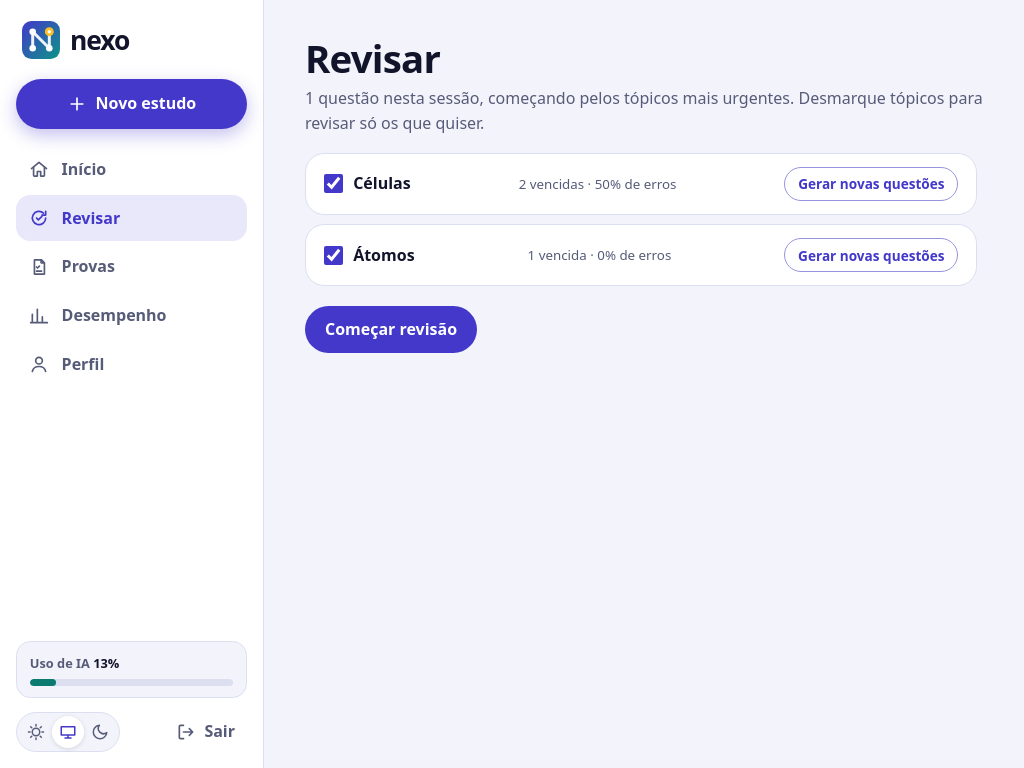
it: revisão: dá para escolher os tópicos; com todos marcados usa as questões já carregadas, com escolha pede só as dos marcados
Step 1. Click the checkbox labelled "Células" → (333, 184), box [324,174,343,194]
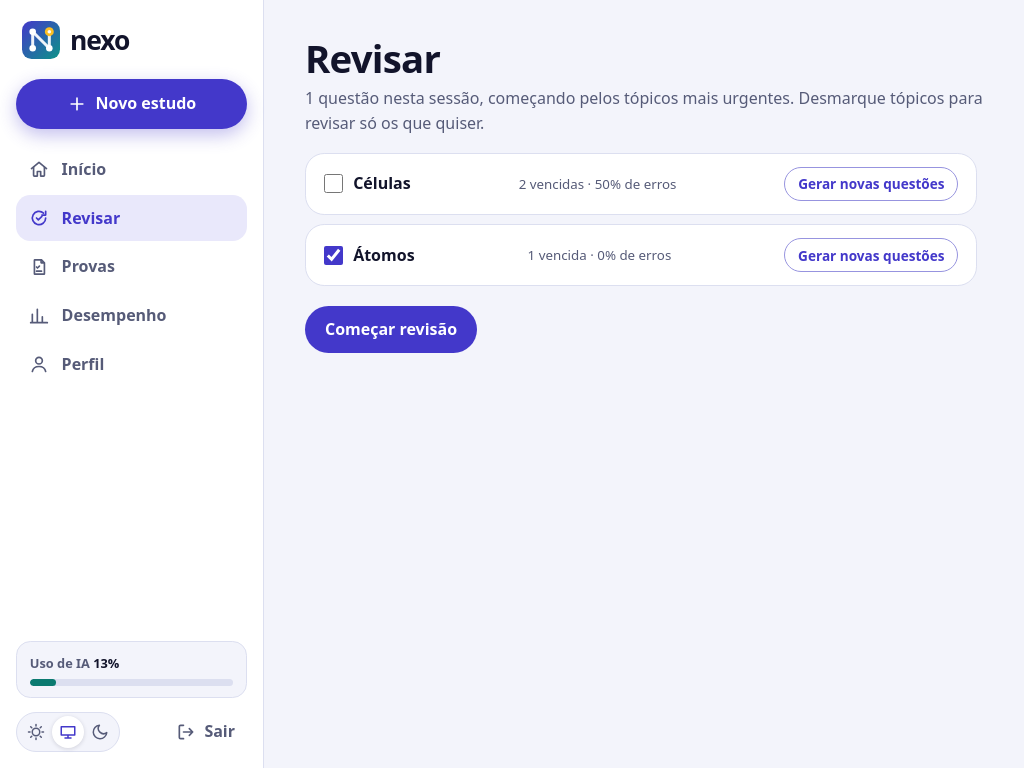
Expected: the text "1 questão nesta sessão" is shown, [305,86,983,135]
Step 2. Click the button "Começar revisão" → (391, 329), box [305,306,477,353]
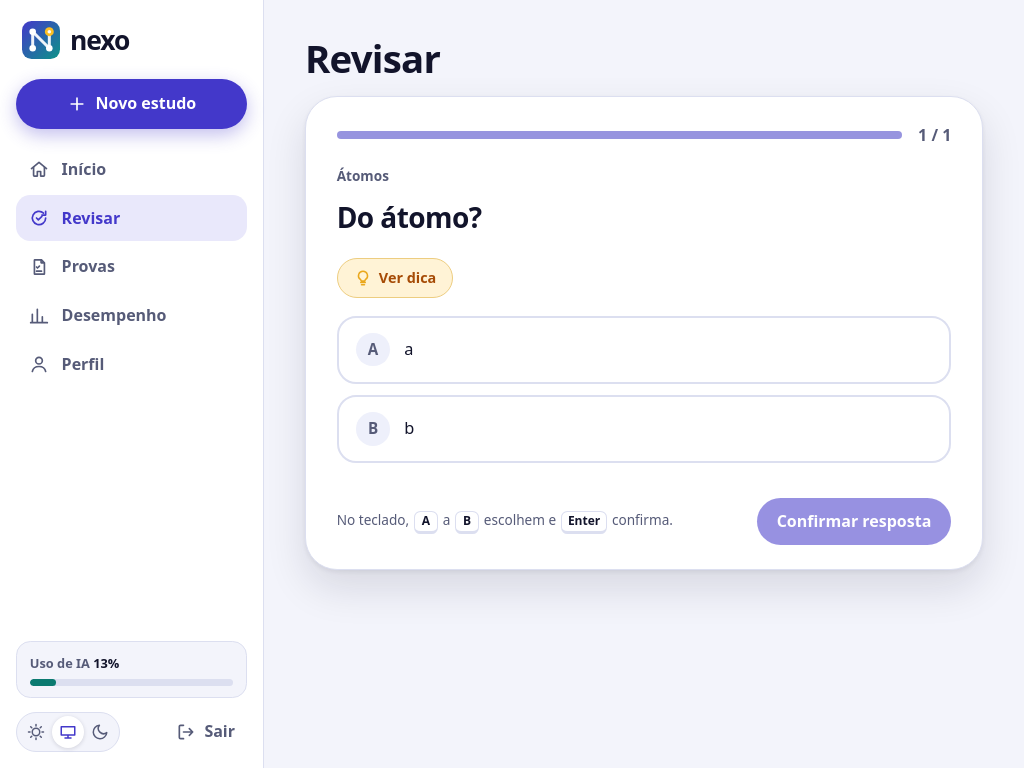
Now the heading "Do átomo?" is shown, box [337,198,482,236]
